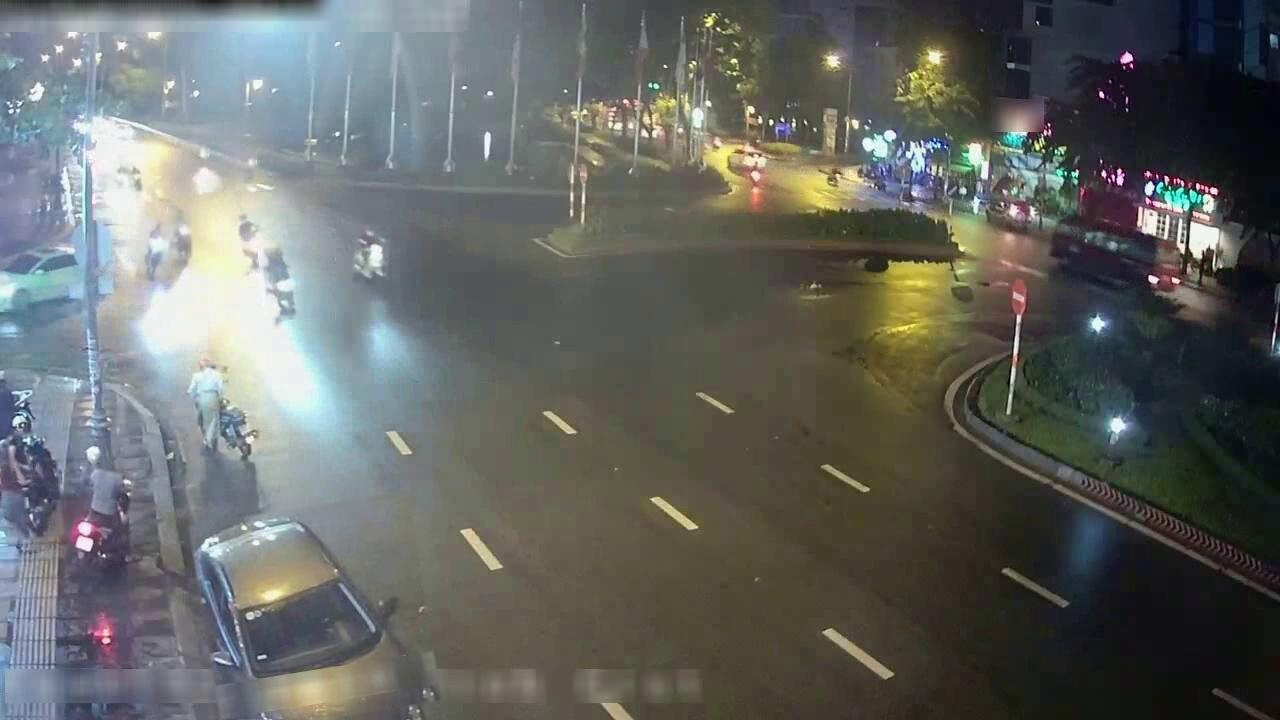Car: (195, 517, 434, 719), (1050, 217, 1180, 291), (0, 245, 80, 312), (353, 229, 388, 282), (727, 147, 767, 175), (864, 256, 888, 272)
Motorcycle: (219, 399, 256, 460)
Motorcyclist: (69, 446, 131, 572), (263, 246, 295, 315), (142, 221, 169, 280), (237, 213, 264, 271), (170, 208, 192, 261), (237, 156, 256, 182), (128, 164, 143, 194), (113, 163, 128, 187), (193, 143, 210, 162)
Pedestrian: (0, 437, 30, 548), (188, 358, 223, 452)
Sign: (1010, 278, 1027, 316)
